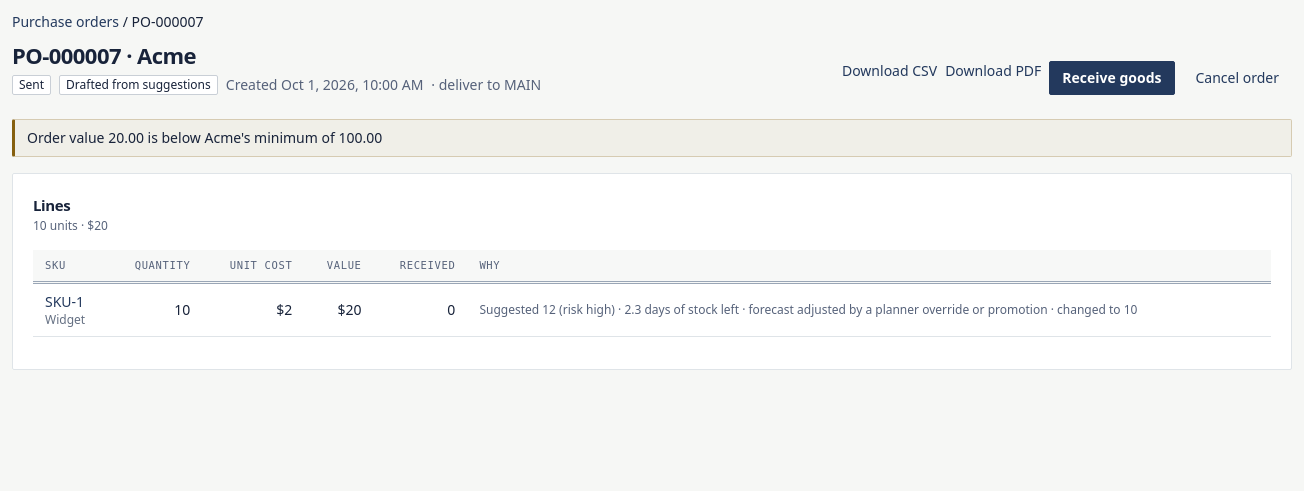
Test: purchase order page › receives part of a sent order
Click the button "Receive goods". click: (1112,78)
box: [1049,61,1175,95]
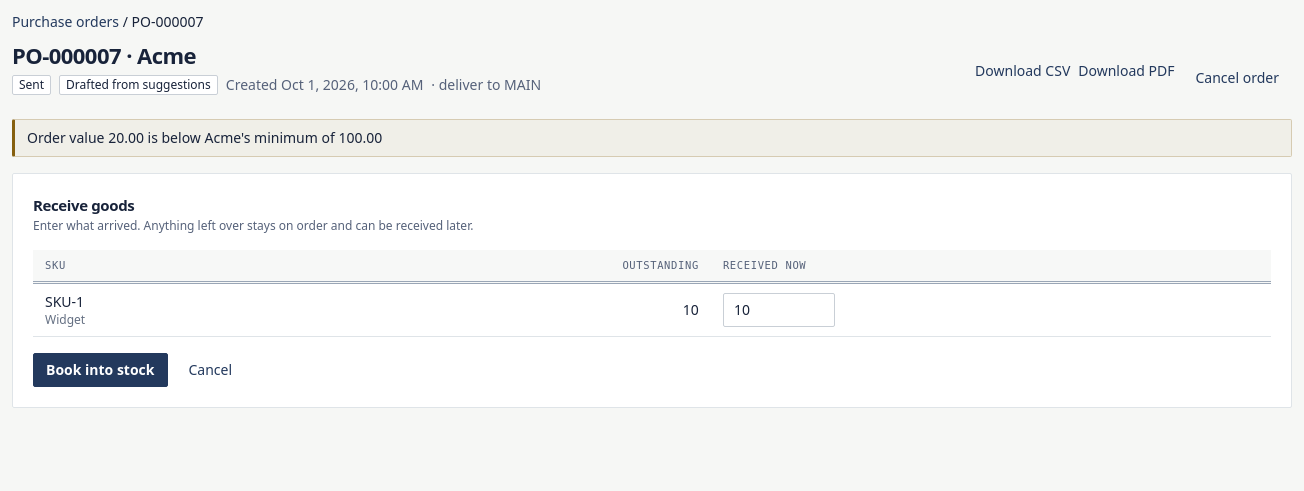
Expected: the field named "Received quantity for SKU-1" holds "10"
Replace the text in the field named "Received quantity for SKU-1" with "11". click: (779,310)
box: [723,293,835,327]
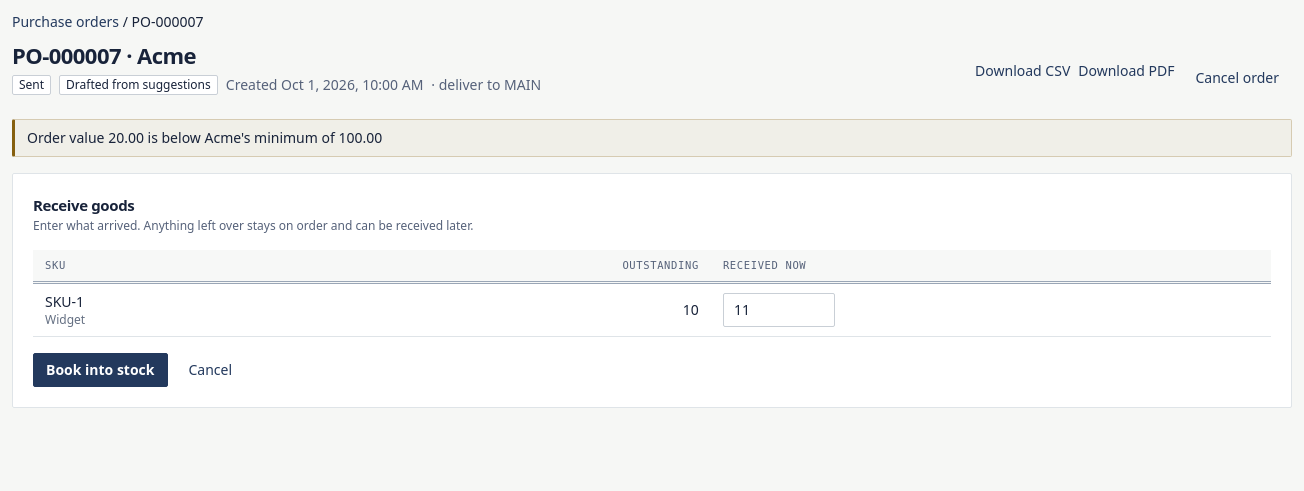
Click the button "Book into stock". click: (100,370)
box: [33,353,168,387]
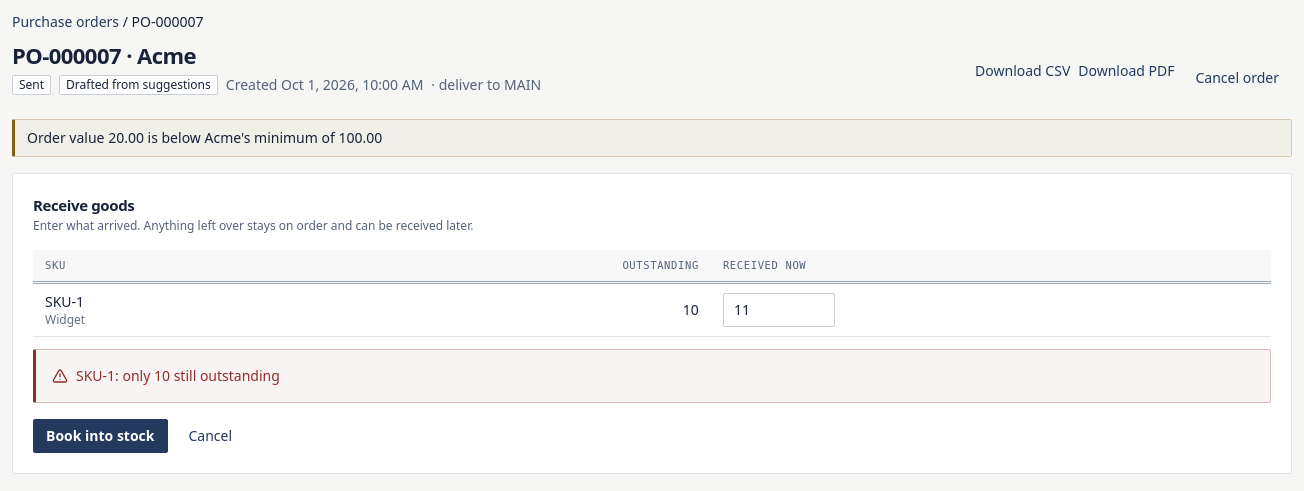
Expected: the text "SKU-1: only 10 still outstanding" is shown, [52,366,280,386]
Replace the text in the field named "Received quantity for SKU-1" with "4". click: (779,310)
box: [723,293,835,327]
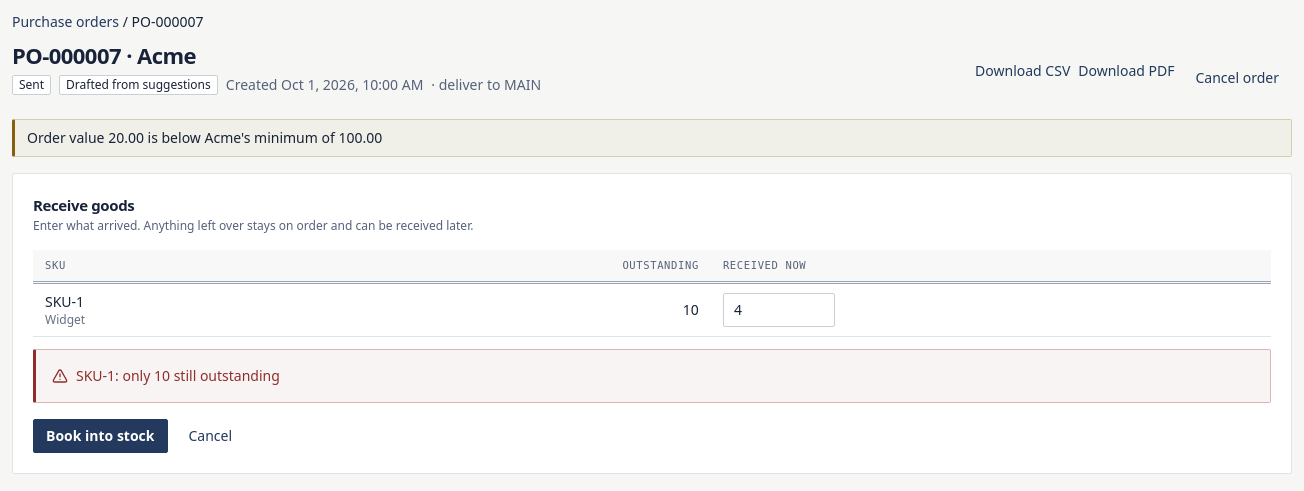
Click the button "Book into stock". click: (100,436)
box: [33,419,168,453]
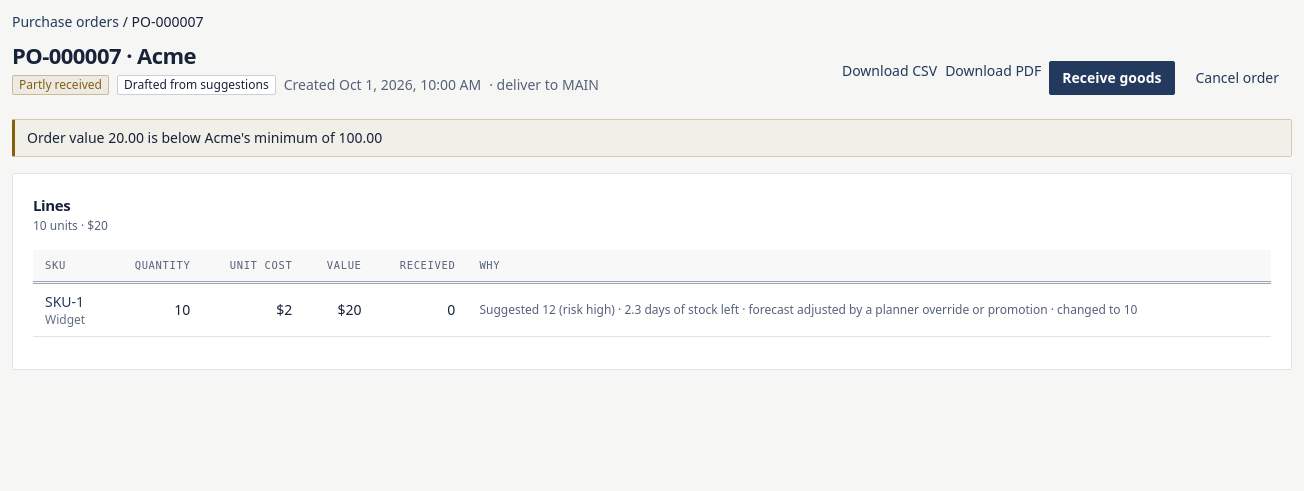
Expected: the text "Partly received" is shown, [12,75,109,95]
